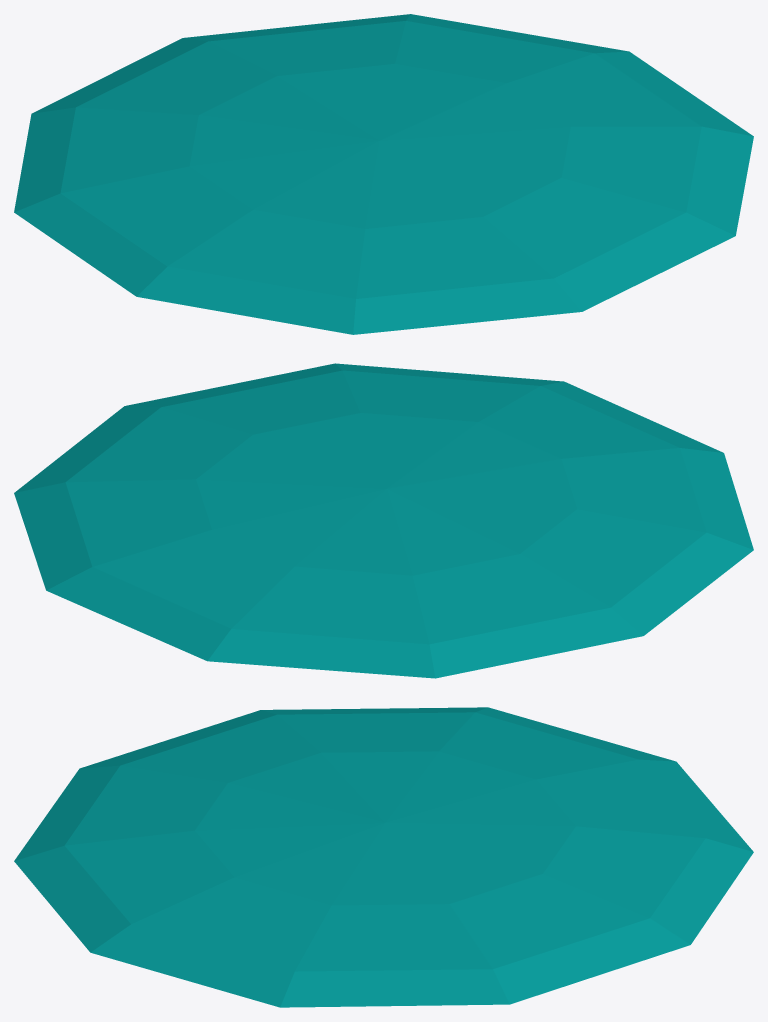
The model's file is Cave_Lair_Vegetation_Swamp_Mushroom_Large_05.fbx.
3 views of the same model, one above another, from view 1: azimuth 30°, elevation 25°; view 2: azimuth 150°, elevation 25°; view 3: azimuth 270°, elevation 25° (orthographic). The views are drawn at different scales.
Parts seen in each view (by area): view 1: Cave_Lair_Vegetation_Swamp_Mushroom_Large_05; view 2: Cave_Lair_Vegetation_Swamp_Mushroom_Large_05; view 3: Cave_Lair_Vegetation_Swamp_Mushroom_Large_05.
Boxes of the visible parts, x1=… form: Cave_Lair_Vegetation_Swamp_Mushroom_Large_05: x1=14, y1=14, x2=753, y2=334; Cave_Lair_Vegetation_Swamp_Mushroom_Large_05: x1=14, y1=363, x2=753, y2=678; Cave_Lair_Vegetation_Swamp_Mushroom_Large_05: x1=14, y1=707, x2=753, y2=1007.
Bounding box in the file's own units: 3.12 × 0.3204 × 3.25.
